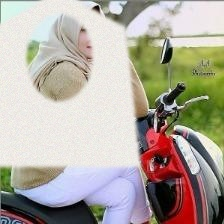Mukena: (0, 0, 140, 166)
